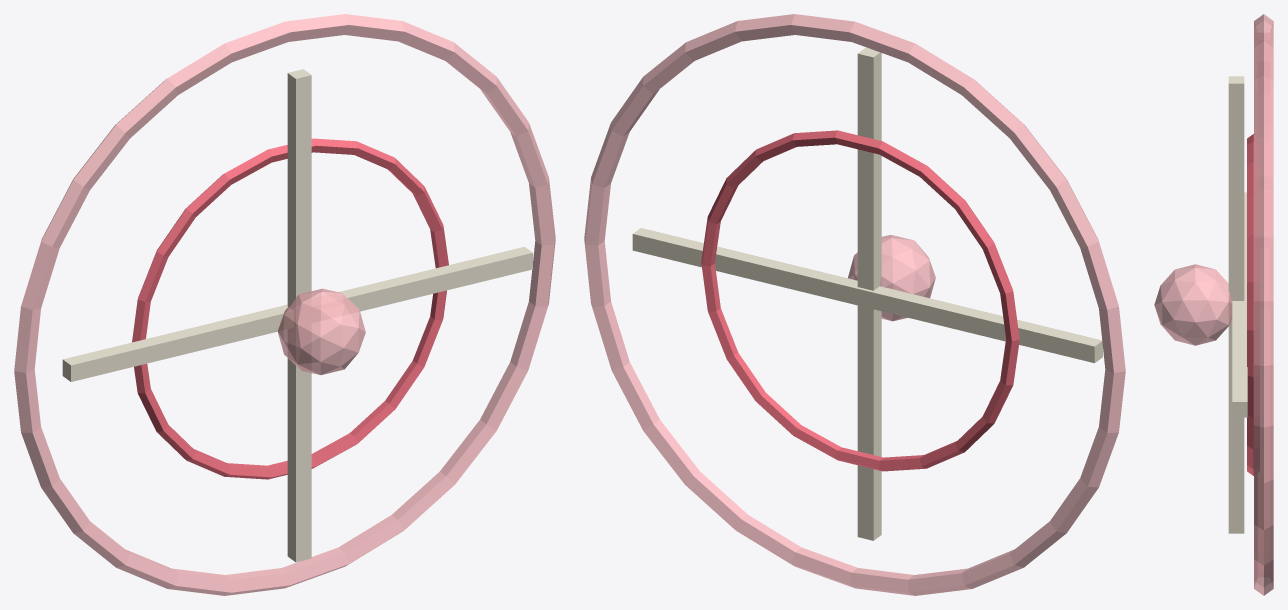
Rendered from 06_combat_flow_anchor.glb.
3 renders of one model, left to right at view 1: azimuth 30°, elevation 25°; view 2: azimuth 150°, elevation 25°; view 3: azimuth 270°, elevation 25°, orthographic. The views are drawn at different scales.
Parts seen in each view (by area): view 1: flow_outer_ring, flow_inner_ring, flow_lane_cross, flow_lane_forward, perfect_flow_core; view 2: flow_outer_ring, flow_inner_ring, flow_lane_forward, flow_lane_cross, perfect_flow_core; view 3: flow_outer_ring, flow_lane_cross, perfect_flow_core, flow_inner_ring, flow_lane_forward.
Boxes of the visible parts, x1,y1,x2,y2 form: flow_outer_ring: (14, 14, 555, 595); flow_inner_ring: (132, 138, 448, 479); flow_lane_cross: (287, 69, 311, 562); flow_lane_forward: (62, 246, 532, 381); perfect_flow_core: (277, 288, 365, 374); flow_outer_ring: (584, 14, 1125, 595); flow_inner_ring: (701, 130, 1019, 471); flow_lane_forward: (632, 228, 1102, 363); flow_lane_cross: (857, 47, 881, 540); perfect_flow_core: (848, 235, 935, 321); flow_outer_ring: (1254, 14, 1273, 595); flow_lane_cross: (1228, 76, 1244, 533); perfect_flow_core: (1154, 264, 1232, 345); flow_inner_ring: (1247, 134, 1259, 475); flow_lane_forward: (1232, 192, 1247, 417).
Bounding box in the file's own units: 1.7 × 1.7 × 0.3485.
